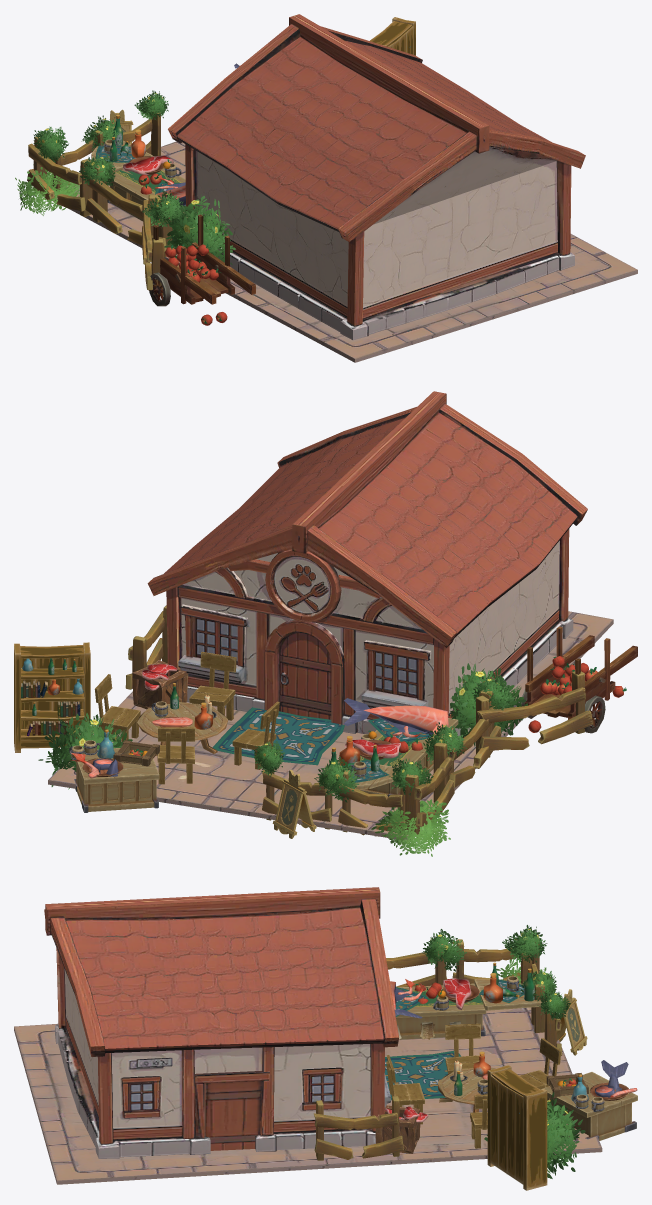
The model's file is MainCityDecor_Tavern_Town.glb.
3 renders of one model, top to bottom at view 1: azimuth 30°, elevation 25°; view 2: azimuth 150°, elevation 25°; view 3: azimuth 270°, elevation 25°, orthographic. The views are drawn at different scales.
Parts seen in each view (by area): view 1: EnvMaincity_Detail__CatMeal__un3135177848469726966, EnvCampsite_Detail__Cart__2__u3756569775797229834, EnvDetail__Bush___221_1__u8388354045285554442, EnvCampsite_Detail__Fence__2_4__un882040976298813174, EnvCampsite_Detail__Fence__2_2__u8410524318070528266, EnvDetail__Bush___22__un8166705186236212982, EnvCampsite_Detail__Fence__2_6__un8646393995923695350, SM_PROP_bookshelf_dungeon_02__u1852660887832877322, EnvDetail__Bush___221_5__u4713948299772090634, EnvUnit_Maincity__Table__u3052878513615919370, EnvDetail__Bush___221_2__un7576482011327309558, EnvDetail__Bush___221_6__un3673685093733967606 (+5 smaller); view 2: EnvMaincity_Detail__CatMeal__un3135177848469726966, SM_PROP_bookshelf_dungeon_02__u1852660887832877322, EnvCampsite_Detail__Cart__2__u3756569775797229834, EnvCampsite_Detail__Rug__2__un7796764341646796534, EnvCampsite_Detail__Fence__2_6__un8646393995923695350, EnvUnit_Maincity__Table_1__u8377667681338317066, EnvDetail__Bush___22__un8166705186236212982, EnvCampsite_Detail__Fence__2_2__u8410524318070528266, EnvDetail__Bush___221__un992158032090375926, EnvDetail__Bush___221_1__u8388354045285554442, EnvMaincity_Detail__food___3__un4264966993148651254, EnvMaincity_Detail__Placard__u1684203333443836170 (+13 smaller); view 3: EnvMaincity_Detail__CatMeal__un3135177848469726966, SM_PROP_bookshelf_dungeon_02__u1852660887832877322, EnvCampsite_Detail__Fence__2_3__un6459119966424409846, EnvUnit_Maincity__Table_1__u8377667681338317066, EnvUnit_Maincity__Table__u3052878513615919370, EnvCampsite_Detail__Rug__2__un7796764341646796534, EnvDetail__Bush___221__un992158032090375926, EnvCampsite_Detail__Fence__2_2__u8410524318070528266, EnvDetail__Bush___221_6__un3673685093733967606, EnvDetail__Bush___221_2__un7576482011327309558, EnvMaincity_Detail__Placard__u1684203333443836170, EnvCampsite_Detail__Box__4__un3627921651621308150 (+10 smaller).
Boxes of the visible parts, x1=… form: EnvMaincity_Detail__CatMeal__un3135177848469726966: x1=54, y1=14, x2=637, y2=362; EnvCampsite_Detail__Cart__2__u3756569775797229834: x1=149, y1=214, x2=255, y2=306; EnvDetail__Bush___221_1__u8388354045285554442: x1=164, y1=194, x2=235, y2=264; EnvCampsite_Detail__Fence__2_4__un882040976298813174: x1=85, y1=164, x2=172, y2=257; EnvCampsite_Detail__Fence__2_2__u8410524318070528266: x1=27, y1=136, x2=92, y2=216; EnvDetail__Bush___22__un8166705186236212982: x1=15, y1=164, x2=79, y2=215; EnvCampsite_Detail__Fence__2_6__un8646393995923695350: x1=141, y1=194, x2=164, y2=295; SM_PROP_bookshelf_dungeon_02__u1852660887832877322: x1=370, y1=17, x2=415, y2=55; EnvDetail__Bush___221_5__u4713948299772090634: x1=142, y1=190, x2=185, y2=227; EnvUnit_Maincity__Table__u3052878513615919370: x1=107, y1=168, x2=187, y2=235; EnvDetail__Bush___221_2__un7576482011327309558: x1=33, y1=126, x2=68, y2=162; EnvDetail__Bush___221_6__un3673685093733967606: x1=79, y1=154, x2=115, y2=185; EnvMaincity_Detail__CatMeal__un3135177848469726966: x1=48, y1=391, x2=613, y2=840; SM_PROP_bookshelf_dungeon_02__u1852660887832877322: x1=14, y1=642, x2=90, y2=752; EnvCampsite_Detail__Cart__2__u3756569775797229834: x1=521, y1=626, x2=637, y2=733; EnvCampsite_Detail__Rug__2__un7796764341646796534: x1=212, y1=707, x2=344, y2=765; EnvCampsite_Detail__Fence__2_6__un8646393995923695350: x1=476, y1=671, x2=592, y2=757; EnvUnit_Maincity__Table_1__u8377667681338317066: x1=74, y1=748, x2=159, y2=812; EnvDetail__Bush___22__un8166705186236212982: x1=371, y1=799, x2=450, y2=856; EnvCampsite_Detail__Fence__2_2__u8410524318070528266: x1=405, y1=742, x2=454, y2=834; EnvDetail__Bush___221__un992158032090375926: x1=38, y1=713, x2=132, y2=789; EnvDetail__Bush___221_1__u8388354045285554442: x1=449, y1=663, x2=527, y2=746; EnvMaincity_Detail__food___3__un4264966993148651254: x1=344, y1=698, x2=448, y2=734; EnvMaincity_Detail__Placard__u1684203333443836170: x1=272, y1=769, x2=316, y2=838; EnvMaincity_Detail__CatMeal__un3135177848469726966: x1=14, y1=887, x2=602, y2=1184; SM_PROP_bookshelf_dungeon_02__u1852660887832877322: x1=487, y1=1065, x2=547, y2=1190; EnvCampsite_Detail__Fence__2_3__un6459119966424409846: x1=314, y1=1096, x2=403, y2=1160; EnvUnit_Maincity__Table_1__u8377667681338317066: x1=541, y1=1072, x2=637, y2=1140; EnvUnit_Maincity__Table__u3052878513615919370: x1=396, y1=983, x2=486, y2=1039; EnvCampsite_Detail__Rug__2__un7796764341646796534: x1=384, y1=1050, x2=461, y2=1100; EnvDetail__Bush___221__un992158032090375926: x1=484, y1=1092, x2=585, y2=1178; EnvCampsite_Detail__Fence__2_2__u8410524318070528266: x1=452, y1=934, x2=539, y2=983; EnvDetail__Bush___221_6__un3673685093733967606: x1=422, y1=929, x2=466, y2=971; EnvDetail__Bush___221_2__un7576482011327309558: x1=502, y1=925, x2=547, y2=964; EnvMaincity_Detail__Placard__u1684203333443836170: x1=556, y1=989, x2=587, y2=1055; EnvCampsite_Detail__Box__4__un3627921651621308150: x1=375, y1=1105, x2=420, y2=1153.
Bounding box in the file's own units: 11.79 × 6.39 × 15.24.
Materials: 18 (18 with a texture image).
